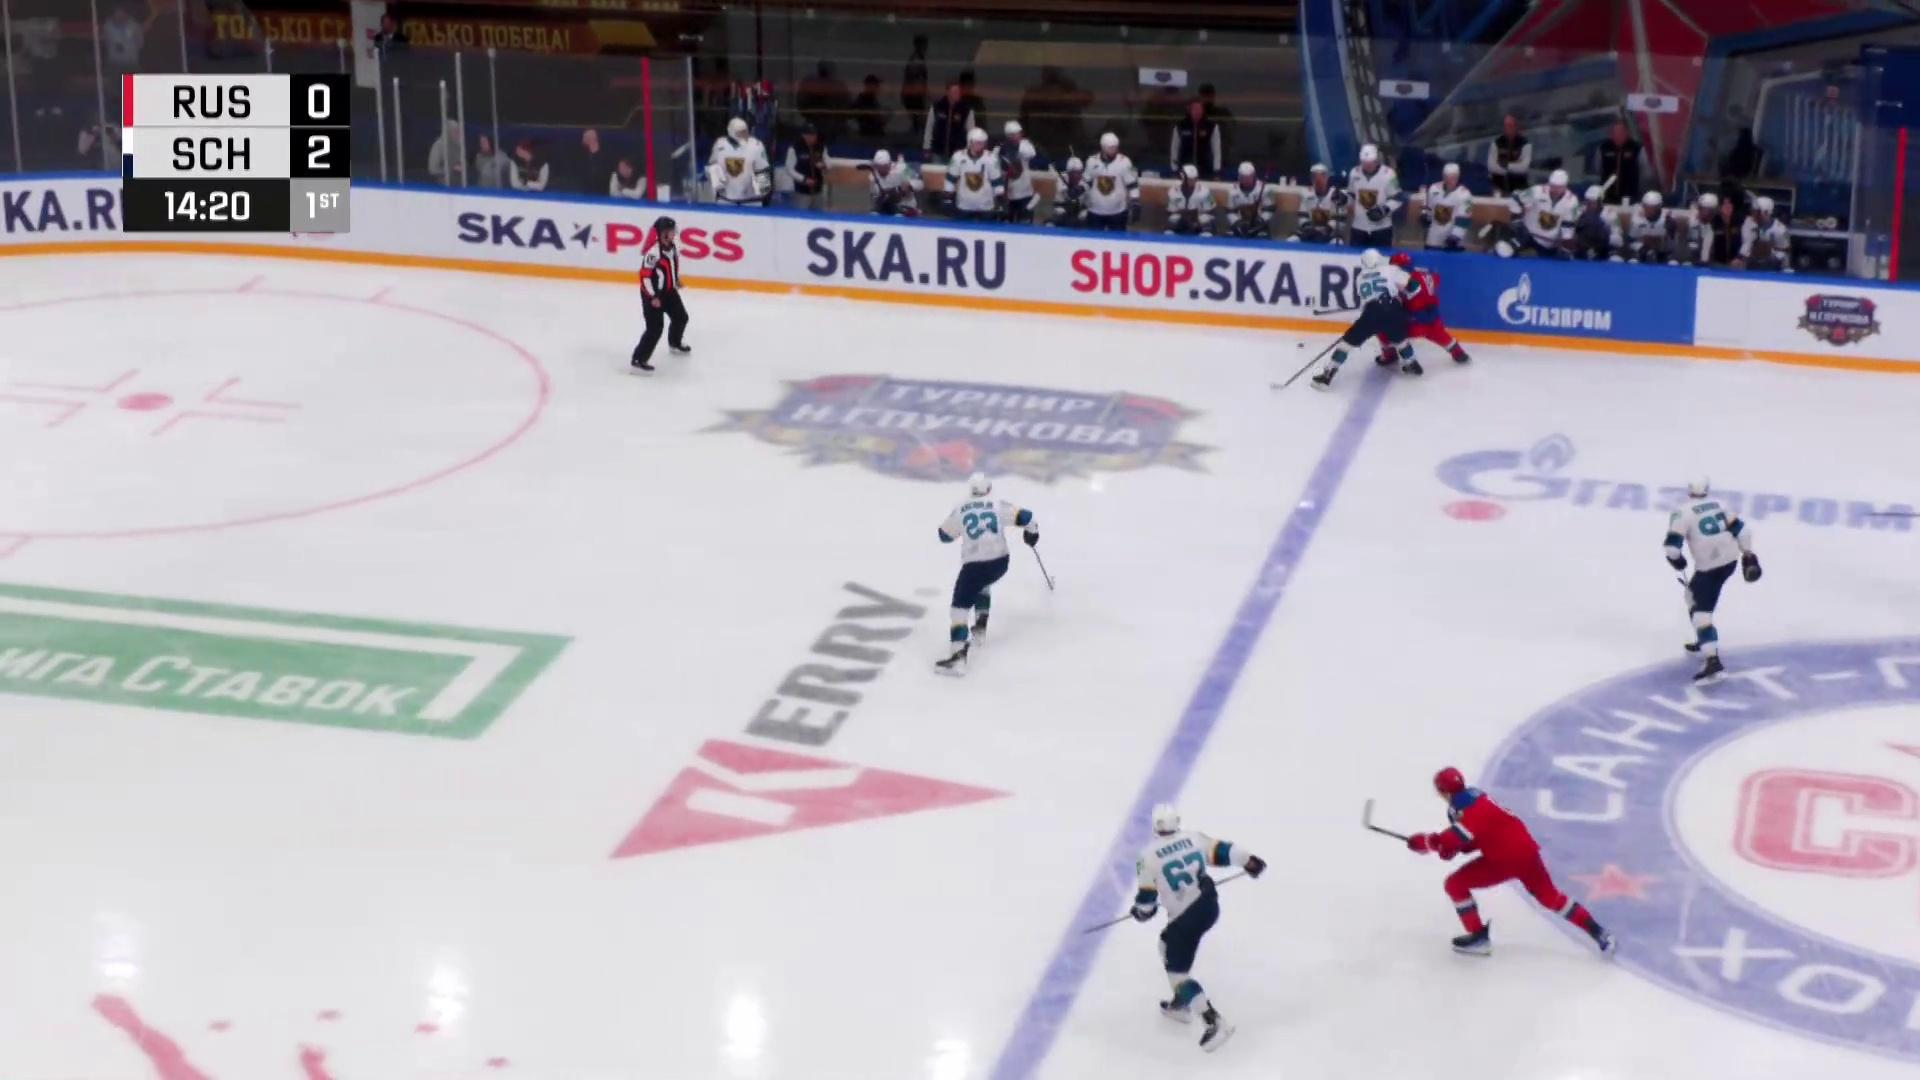ball: (1296, 343, 1304, 349)
